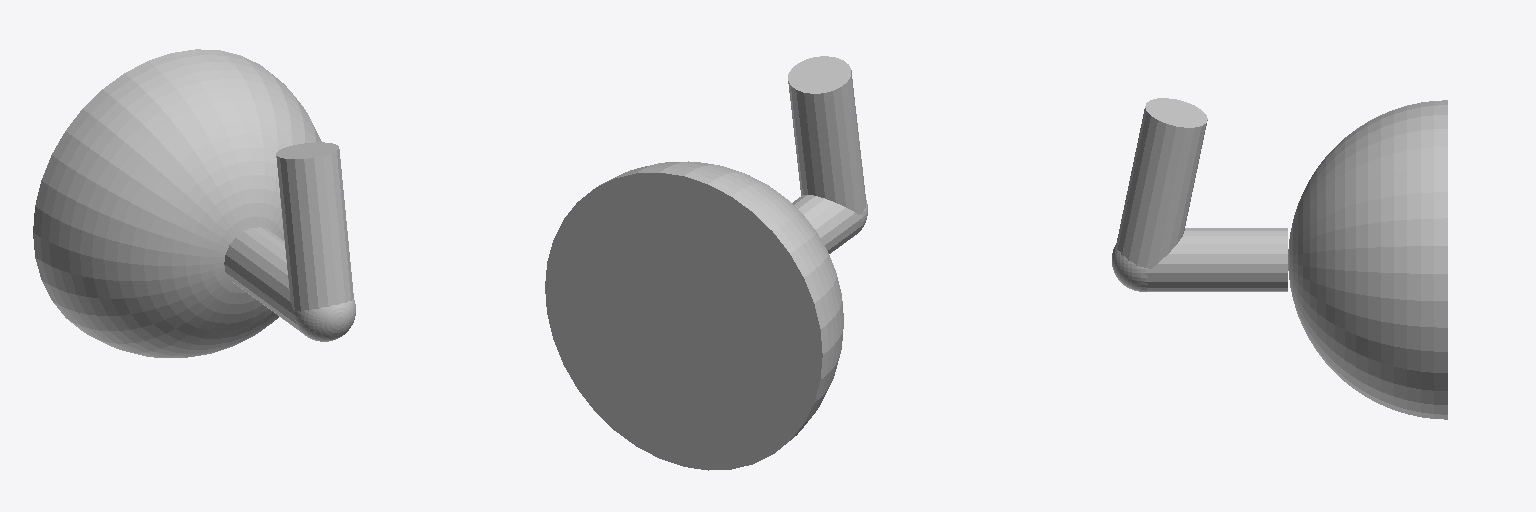
Rendered from lamp.obj.
3 views of the same model, side by side, from view 1: azimuth 30°, elevation 25°; view 2: azimuth 150°, elevation 25°; view 3: azimuth 270°, elevation 25° (orthographic).
Visible parts, largest first — view 1: obj_0; view 2: obj_0; view 3: obj_0.
Boxes of the visible parts, x1=… form: obj_0: x1=33, y1=49, x2=355, y2=357; obj_0: x1=545, y1=56, x2=867, y2=470; obj_0: x1=1112, y1=98, x2=1447, y2=419.
Size of the model in its own units: 20 by 20.54 by 21.